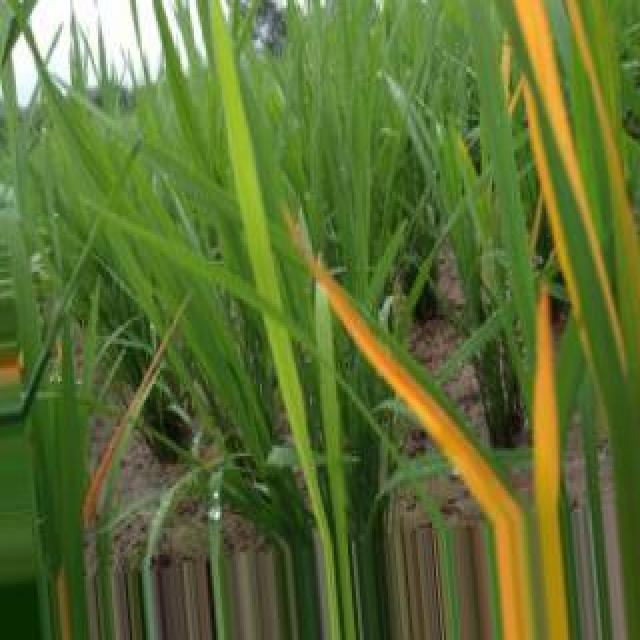Rice Tungro: (303, 253, 532, 638), (518, 0, 626, 374), (569, 2, 640, 382), (82, 298, 188, 526), (526, 83, 579, 319), (534, 282, 569, 638), (630, 556, 639, 632)
